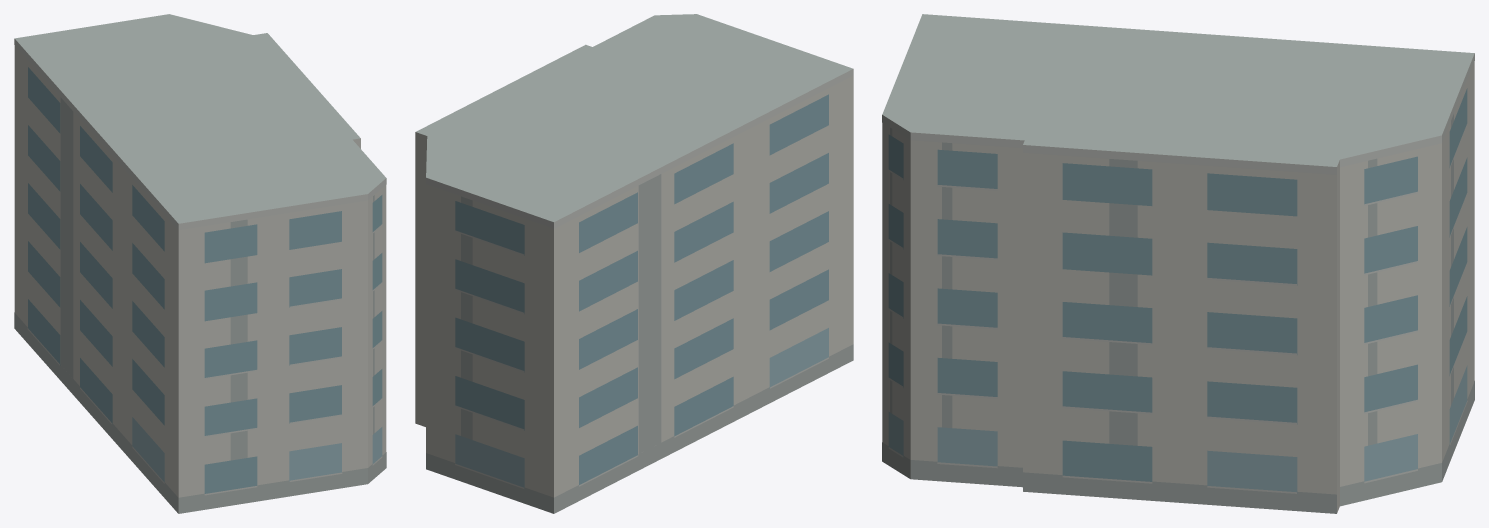
File: survey-upis-32624928.glb
The picture shows the model from 3 angles, left to right: view 1: azimuth 30°, elevation 25°; view 2: azimuth 150°, elevation 25°; view 3: azimuth 270°, elevation 25°; orthographic projection. The views are drawn at different scales.
Visible parts, largest first — view 1: survey-upis-32624928.tmp; view 2: survey-upis-32624928.tmp; view 3: survey-upis-32624928.tmp.
Boxes of the visible parts, x1=… form: survey-upis-32624928.tmp: x1=14, y1=14, x2=386, y2=513; survey-upis-32624928.tmp: x1=415, y1=14, x2=853, y2=513; survey-upis-32624928.tmp: x1=882, y1=14, x2=1474, y2=513.
Size of the model in its own units: 10.23 by 10.8 by 16.73.
